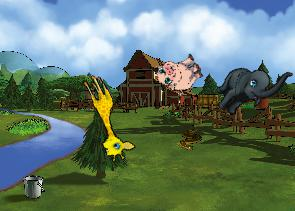elephant: (208, 43, 293, 132)
giraffe: (71, 71, 138, 165)
pig: (152, 46, 207, 100)
